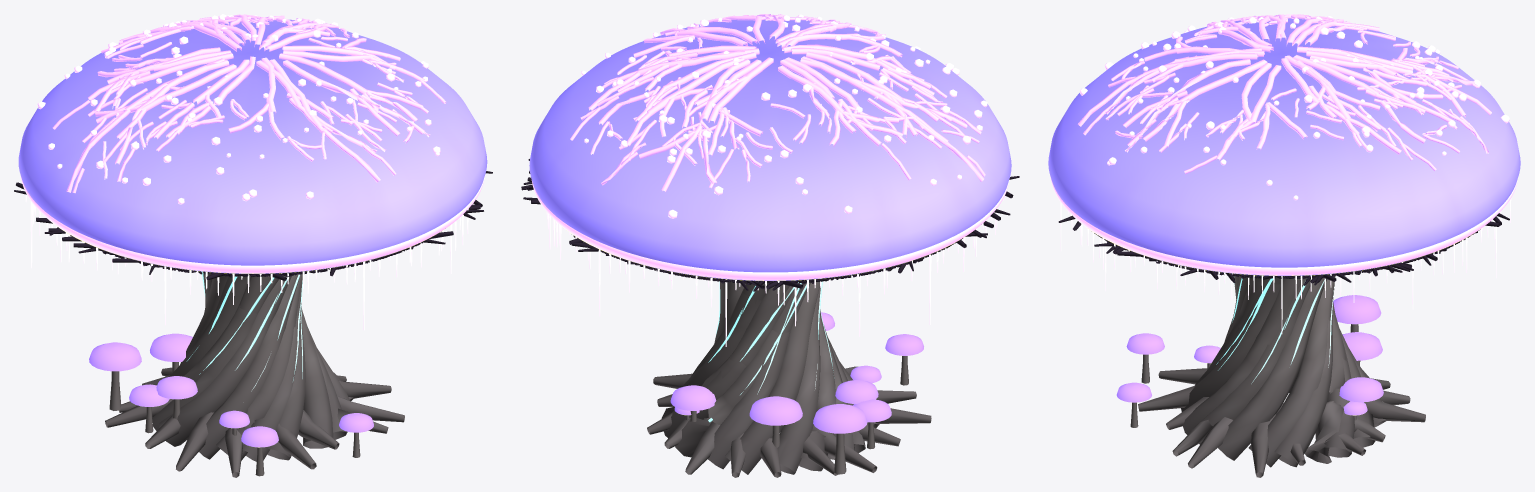
File: mushtree.glb
3 renders of one model, left to right at view 1: azimuth 30°, elevation 25°; view 2: azimuth 150°, elevation 25°; view 3: azimuth 270°, elevation 25°, orthographic. The views are drawn at different scales.
Parts seen in each view (by area): view 1: hero_tree_cap, hero_tree_bark, hero_tree_vein, hero_tree_minicap, hero_tree_rim, hero_tree_drip, hero_tree_glowbark; view 2: hero_tree_cap, hero_tree_vein, hero_tree_bark, hero_tree_minicap, hero_tree_rim, hero_tree_drip, hero_tree_glowbark; view 3: hero_tree_cap, hero_tree_bark, hero_tree_vein, hero_tree_minicap, hero_tree_rim, hero_tree_drip, hero_tree_glowbark.
Part boxes in pixels (x1,y1,x2,y2): hero_tree_cap: (18, 19, 487, 273); hero_tree_bark: (14, 171, 492, 477); hero_tree_vein: (37, 14, 446, 204); hero_tree_minicap: (89, 333, 373, 447); hero_tree_rim: (20, 174, 485, 273); hero_tree_drip: (25, 194, 473, 330); hero_tree_glowbark: (186, 271, 309, 391); hero_tree_cap: (529, 19, 1011, 280); hero_tree_vein: (570, 14, 987, 218); hero_tree_bark: (521, 159, 1019, 477); hero_tree_minicap: (670, 312, 923, 433); hero_tree_rim: (531, 180, 1009, 280); hero_tree_drip: (546, 197, 1004, 346); hero_tree_glowbark: (708, 281, 833, 422); hero_tree_cap: (1048, 18, 1520, 275); hero_tree_bark: (1058, 213, 1509, 477); hero_tree_vein: (1078, 14, 1509, 200); hero_tree_minicap: (1116, 295, 1383, 415); hero_tree_rim: (1050, 176, 1518, 275); hero_tree_drip: (1060, 198, 1511, 333); hero_tree_glowbark: (1216, 278, 1334, 383).
Bounding box in the file's own units: 14.82 × 12.78 × 14.4.
